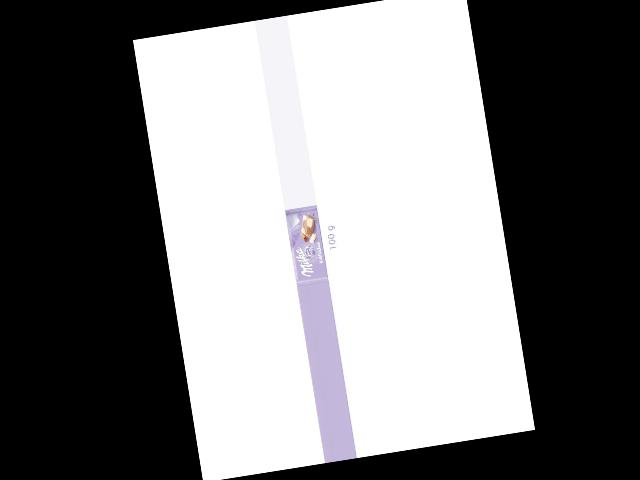chocolate: (283, 203, 333, 286)
